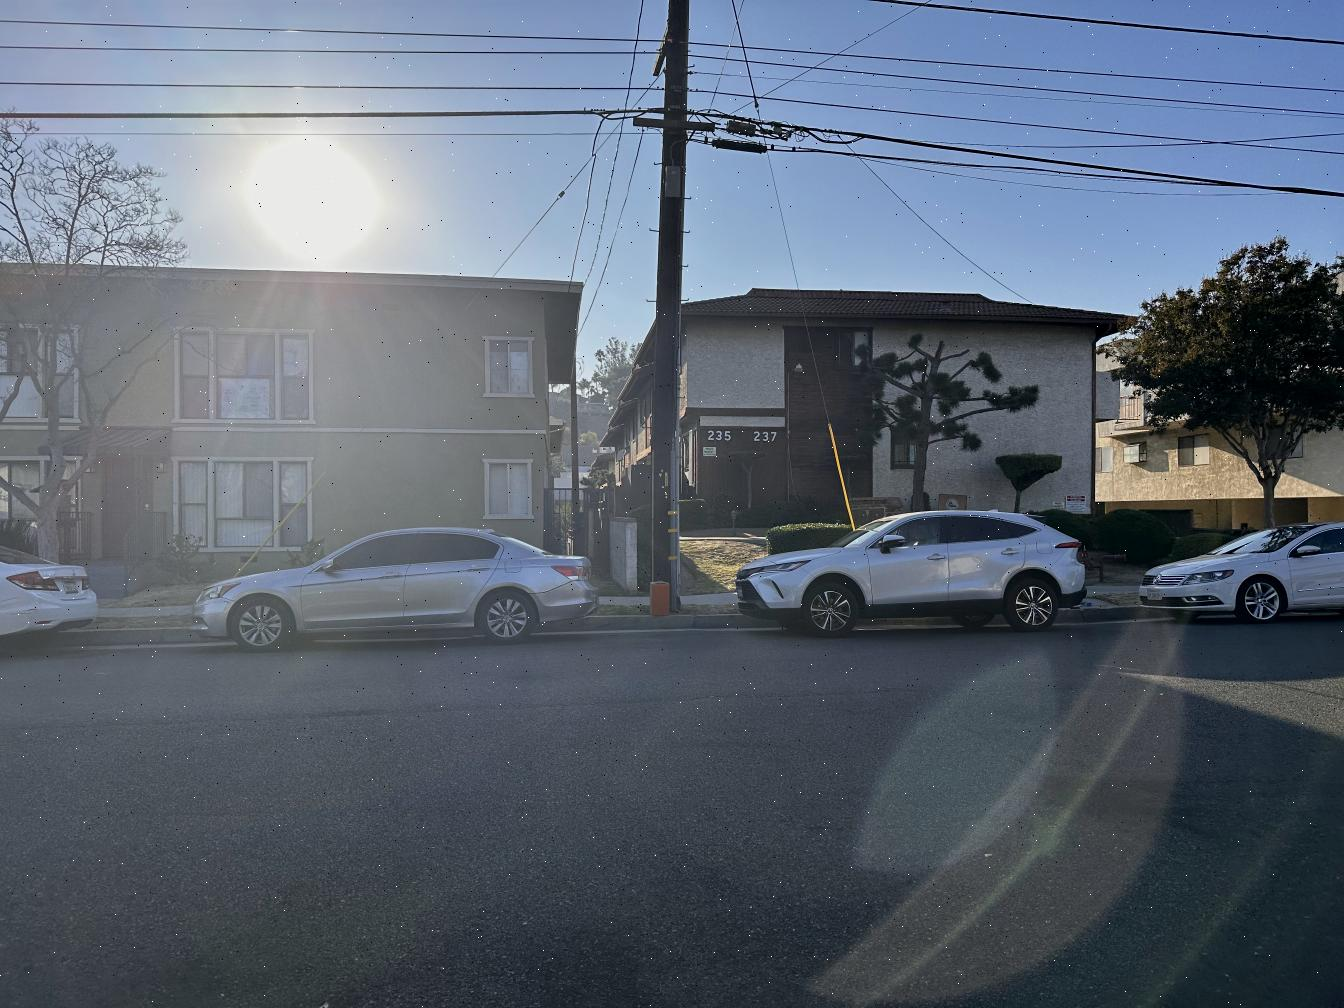curbs-laRr: (597, 612, 746, 630), (94, 628, 187, 645)
orange box: (651, 581, 673, 615)
